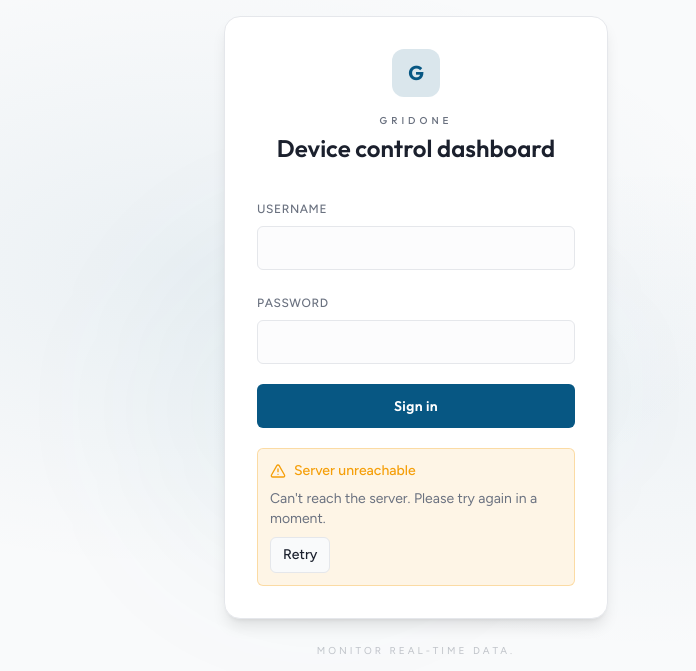
Scenario: LoginPage › recovers without a reload when retry succeeds
The width and height of the screenshot is (696, 671).
Expected: the message "Server unreachable Can't reach the server. Please try again in a moment. Retry" is shown, [257, 448, 575, 586]
Click the button "Retry" at {"x": 300, "y": 555}, box [270, 537, 330, 573]
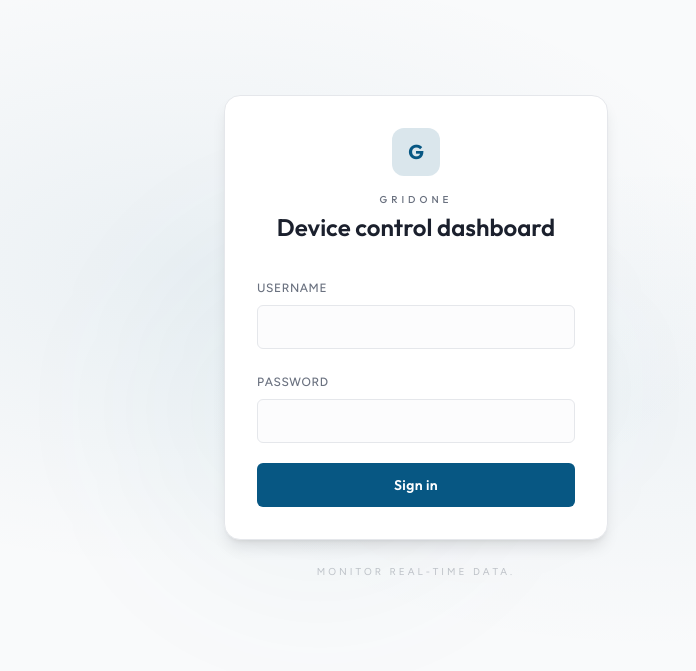
Result: the message "Server unreachable Can't reach the server. Please try again in a moment. Retry" is gone
